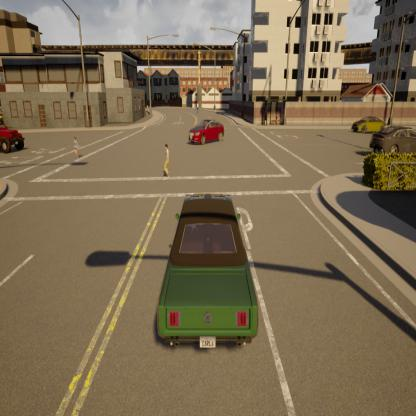Cars: (147, 184, 264, 357), (367, 120, 416, 159), (184, 116, 228, 148), (0, 117, 28, 158), (348, 113, 388, 135)
Pedestrian: (159, 140, 173, 181), (67, 132, 84, 161)
